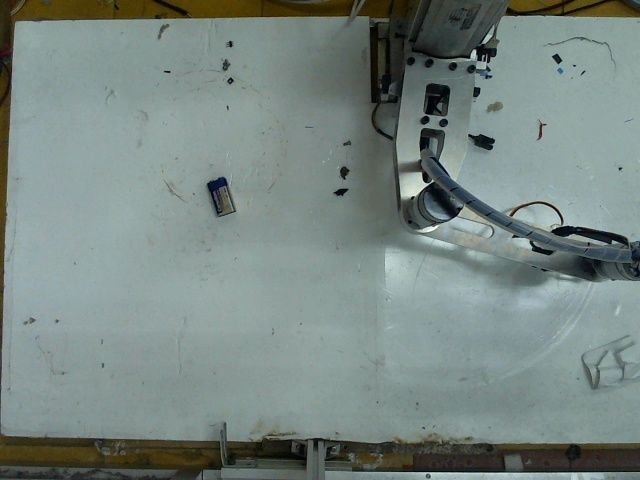battery: (201, 175, 238, 220)
